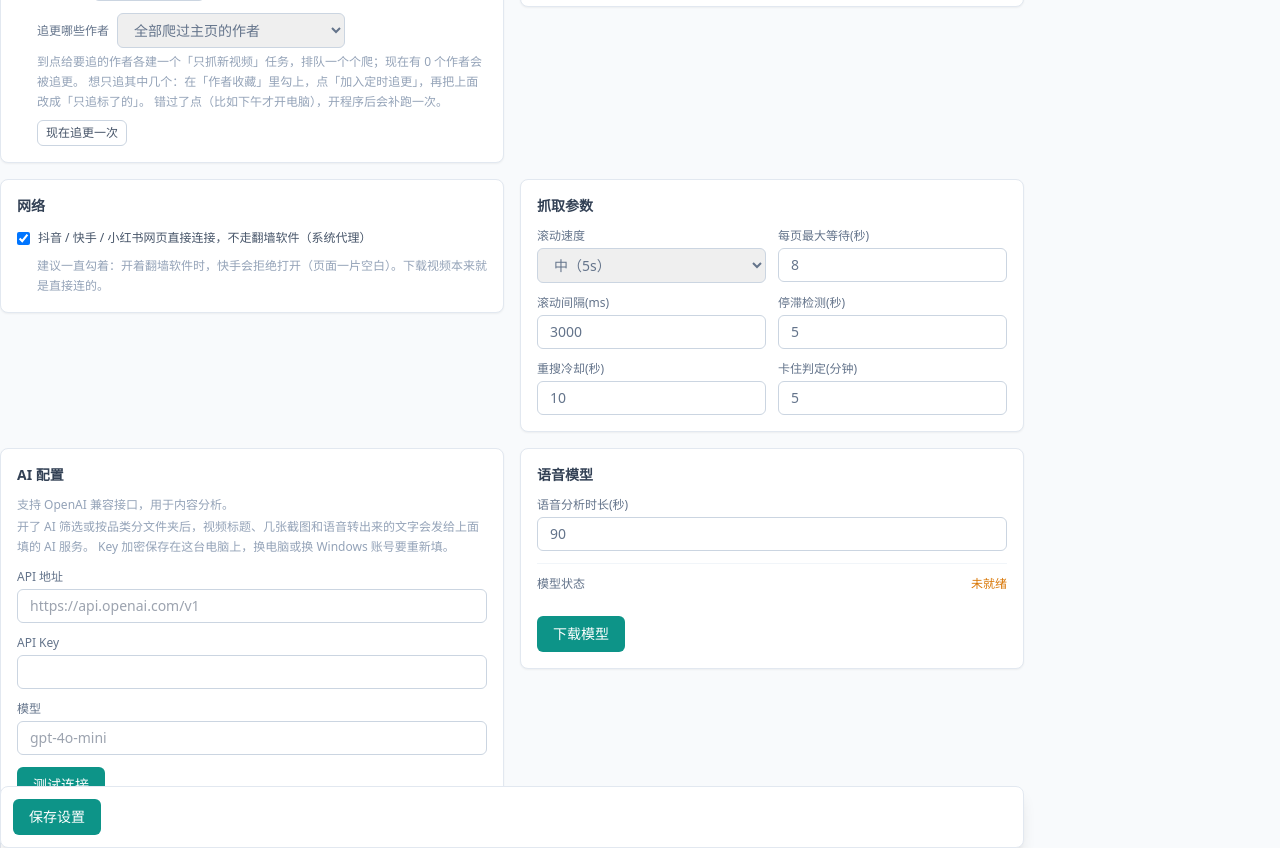
Test: SettingsPanel 分组与字段完整性 › 卡住判定填「」→ 按 5 分钟保存，并把实际值显示回输入框
(page scrolled)
Clear the number field labelled "卡住判定(分钟)" at (892, 398), box [778, 381, 1007, 415]
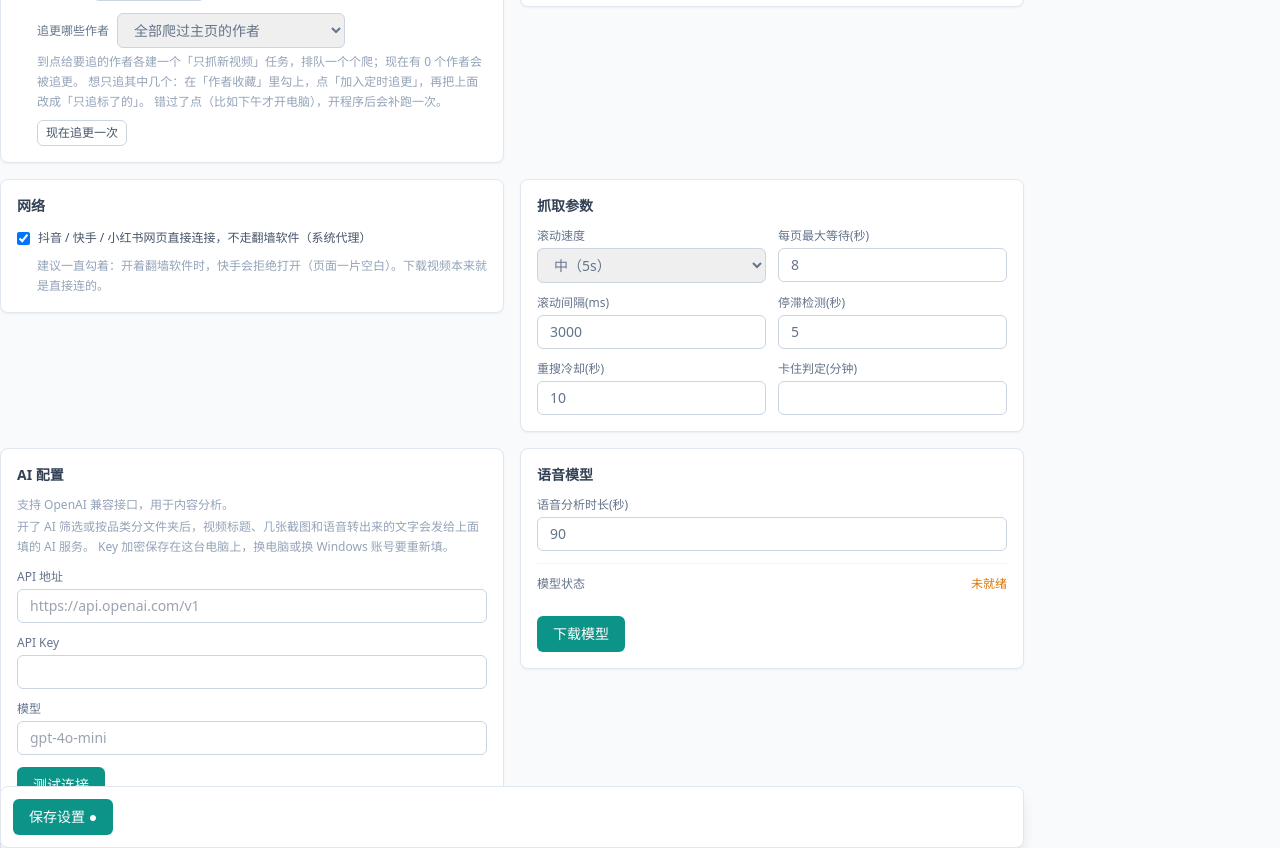
Click the button "保存设置 ●" at (63, 817), box [13, 799, 113, 835]
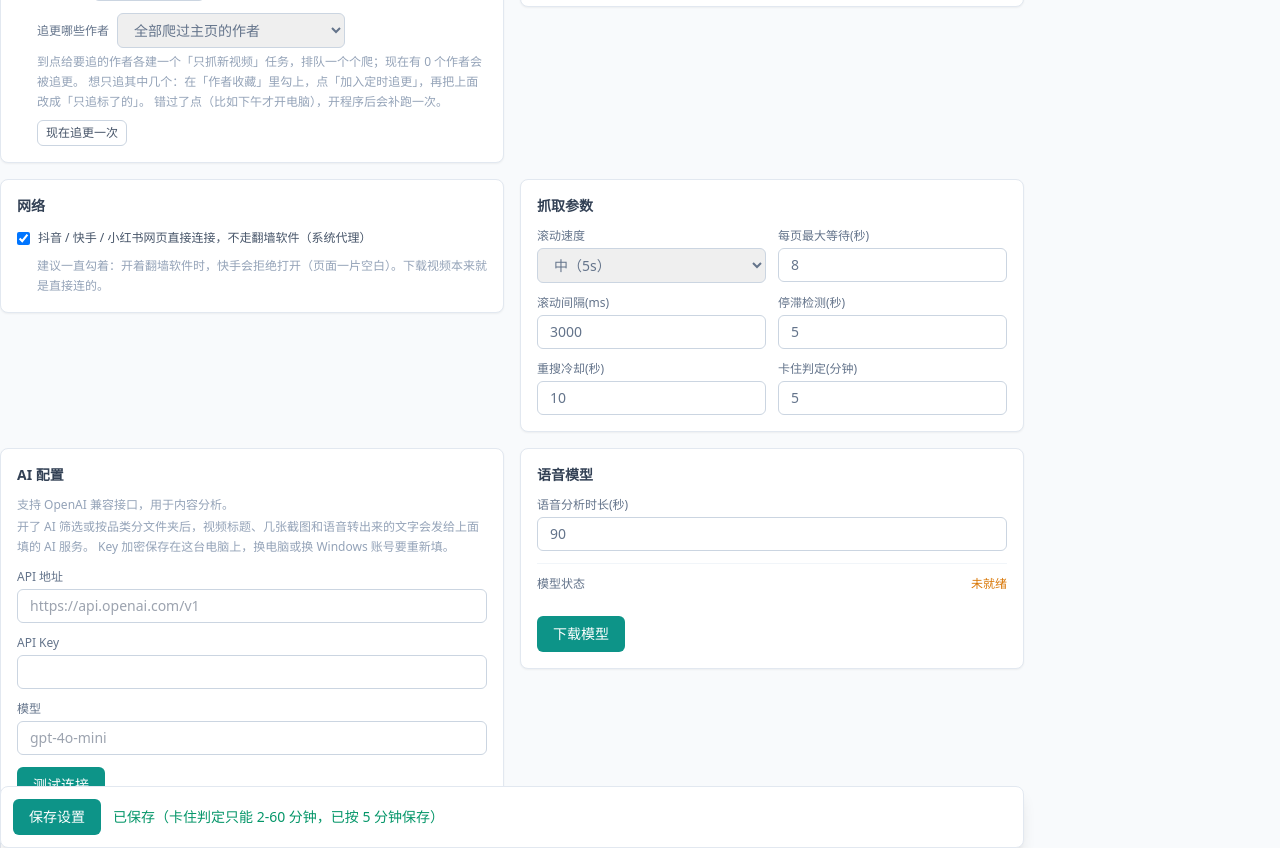
Now the number field labelled "卡住判定(分钟)" holds "5", box [778, 381, 1007, 415]
